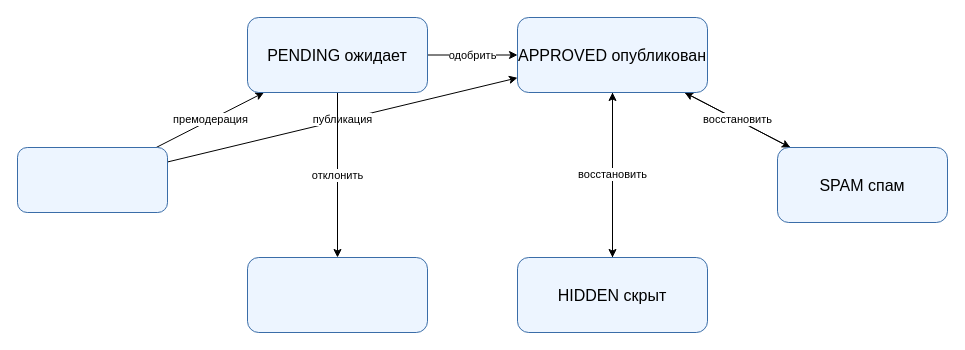
Some shapes in this 965 by 350 pixel diagram are drawn without their labels. Each missing label, with the centre of its shape:
REJECTED отклонён: the point at 337,294
Создание: the point at 92,179
